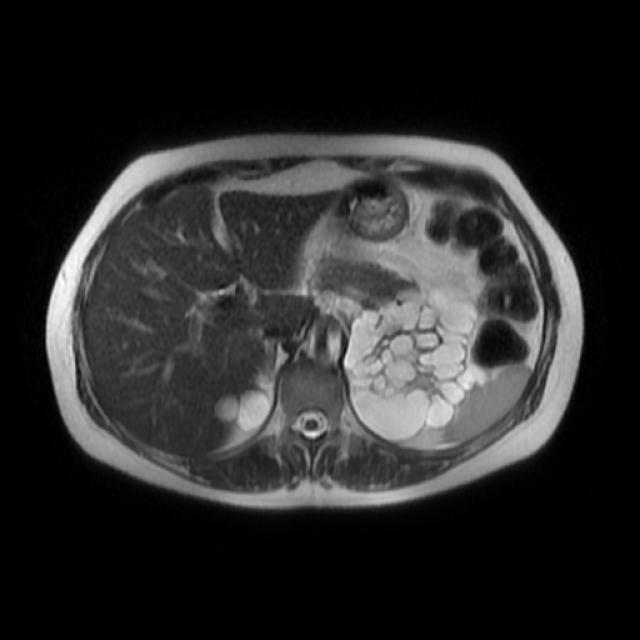sag: (214, 388, 271, 433)
sol: (344, 281, 479, 439)
